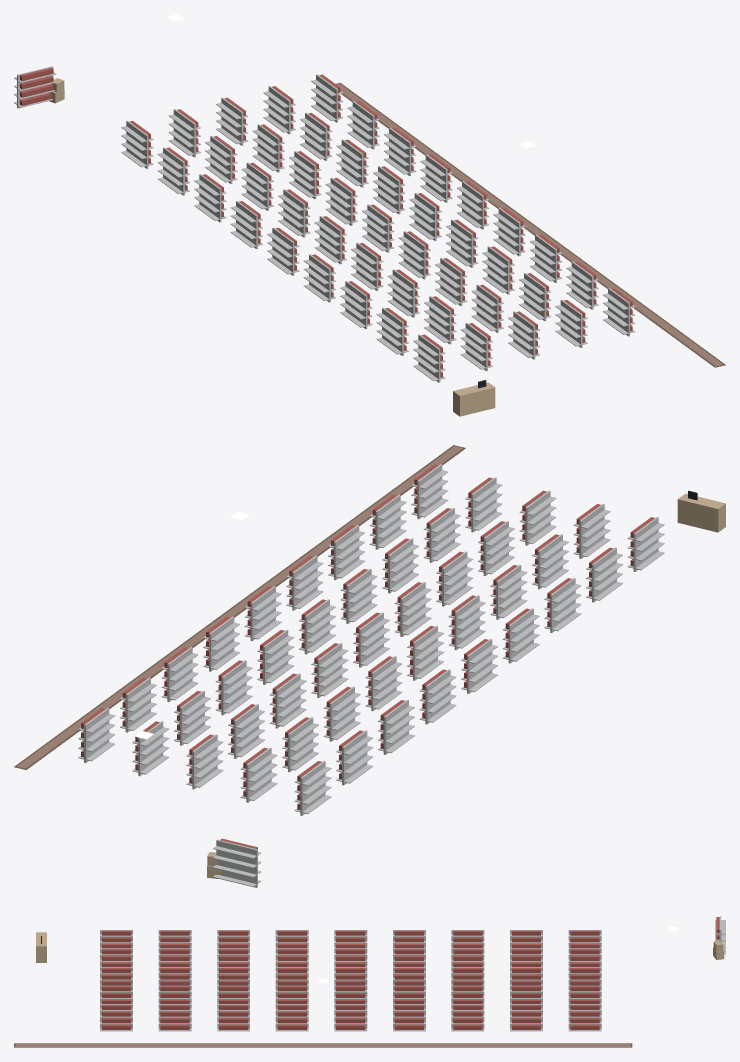
The model's file is fine-s0.glb.
3 views of the same model, one above another, from view 1: azimuth 30°, elevation 25°; view 2: azimuth 150°, elevation 25°; view 3: azimuth 270°, elevation 25° (orthographic). The views are drawn at different scales.
Visible parts, largest first — view 1: soft-s0, shelving.000, shop-counter.000, shelf.037, shelf.009, shelf.027, shelf.029, shelf.035, shelf.019, shelf.011, shelf.031, shelf.039 (+36 smaller); view 2: soft-s0, shelving.000, shop-counter.000, shelf.001, shelf.012, shelf.014, shelf.020, shelf.029, shelf.031, shelf.034, shelf.035, shelf.043 (+36 smaller); view 3: soft-s0, shelf.036, shelf.038, shelf.040, shelf.041, shelf.043, shelf.037, shelf.039, shelf.042, shelf.044, shelf.009, shelf.011 (+36 smaller).
Part boxes in pixels (x1=…): soft-s0: x1=336, y1=83, x2=725, y2=367; shelving.000: x1=14, y1=66, x2=56, y2=108; shop-counter.000: x1=453, y1=380, x2=495, y2=416; shelf.037: x1=347, y1=101, x2=379, y2=149; shelf.009: x1=168, y1=109, x2=200, y2=157; shelf.027: x1=263, y1=86, x2=295, y2=134; shelf.029: x1=336, y1=139, x2=368, y2=187; shelf.035: x1=555, y1=299, x2=587, y2=347; shelf.019: x1=252, y1=124, x2=284, y2=172; shelf.011: x1=241, y1=162, x2=273, y2=210; shelf.031: x1=409, y1=193, x2=441, y2=241; shelf.039: x1=420, y1=154, x2=452, y2=202; soft-s0: x1=14, y1=445, x2=465, y2=769; shelving.000: x1=213, y1=838, x2=261, y2=887; shop-counter.000: x1=677, y1=490, x2=725, y2=532; shelf.001: x1=336, y1=730, x2=373, y2=785; shelf.012: x1=365, y1=656, x2=402, y2=711; shelf.014: x1=448, y1=595, x2=485, y2=650; shelf.020: x1=269, y1=673, x2=306, y2=728; shelf.029: x1=215, y1=660, x2=252, y2=715; shelf.031: x1=299, y1=599, x2=335, y2=654; shelf.034: x1=423, y1=508, x2=460, y2=562; shelf.035: x1=465, y1=477, x2=502, y2=532; shelf.043: x1=369, y1=494, x2=406, y2=549; soft-s0: x1=14, y1=1043, x2=632, y2=1047; shelf.036: x1=568, y1=1004, x2=601, y2=1031; shelf.038: x1=451, y1=1004, x2=484, y2=1031; shelf.040: x1=334, y1=1004, x2=367, y2=1031; shelf.041: x1=275, y1=1004, x2=308, y2=1031; shelf.043: x1=158, y1=1004, x2=191, y2=1031; shelf.037: x1=510, y1=1004, x2=542, y2=1031; shelf.039: x1=393, y1=1004, x2=425, y2=1031; shelf.042: x1=217, y1=1004, x2=249, y2=1031; shelf.044: x1=100, y1=1004, x2=132, y2=1031; shelf.009: x1=568, y1=948, x2=601, y2=966; shelf.011: x1=451, y1=948, x2=484, y2=966.
Size of the model in its own units: 13.58 by 3.92 by 38.9.
